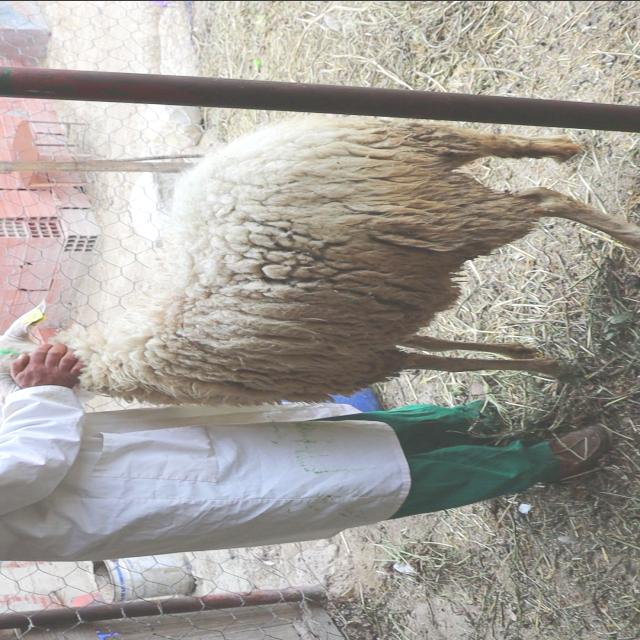Score_3: (63, 114, 639, 404)
